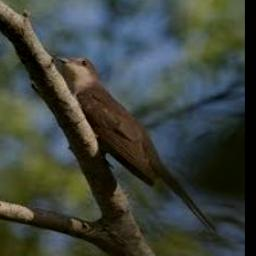Cuckoo: (55, 55, 216, 234)
